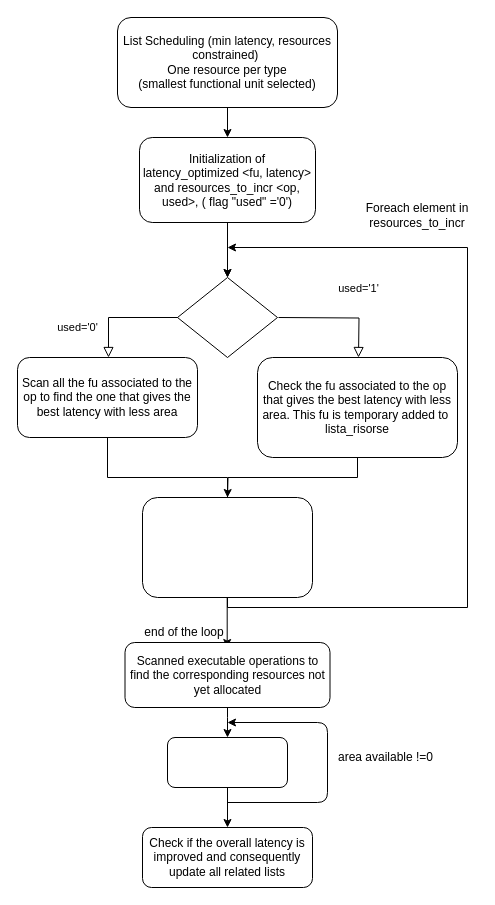
Some shapes in this 495 by 905 pixel diagram are drawn without their labels. The centre of each missing label's shape, as x and y in pixels:
Check "used": (227,317)
Temporary added resource to lista_risorse: (227,762)
The list latency_optimized is updated with the corresponding <fu, latency>: (227,547)
